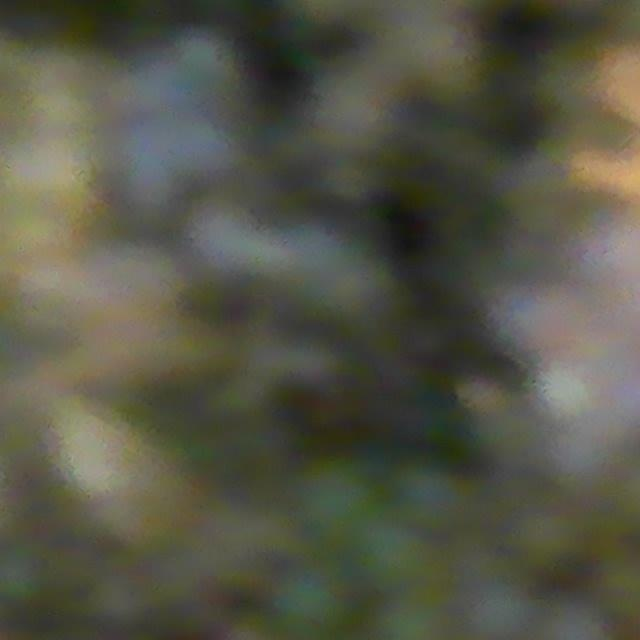SeaGrape: (293, 455, 377, 540), (390, 459, 471, 536), (271, 561, 351, 638), (354, 515, 434, 592), (494, 279, 573, 356), (583, 222, 640, 307), (534, 363, 591, 416)
